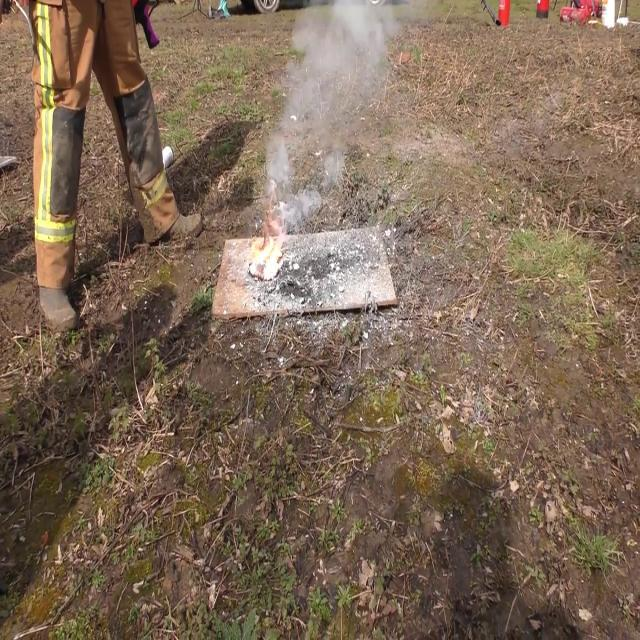Fire: (246, 230, 286, 280)
Smoke: (258, 0, 416, 244)
